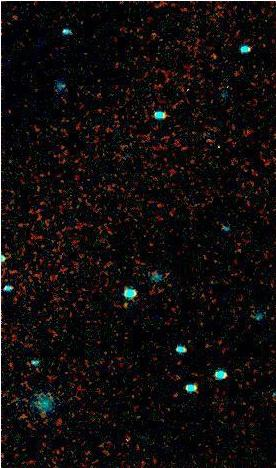star: (109, 290, 139, 320)
